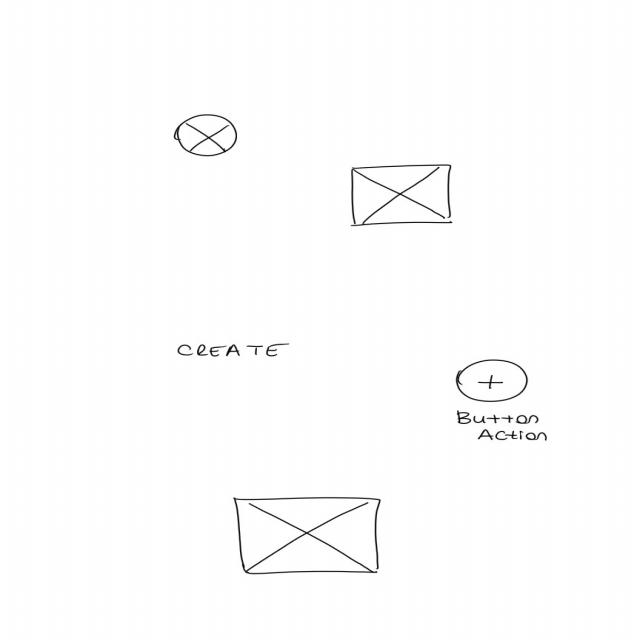icon-button: (457, 359, 532, 403)
image: (234, 497, 384, 576), (350, 164, 455, 228), (175, 114, 240, 158)
label: (457, 410, 552, 444), (179, 344, 292, 359)
